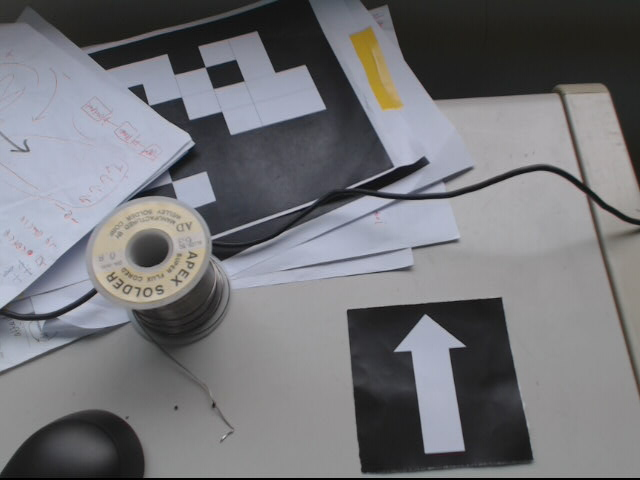straight: (345, 297, 531, 449)
